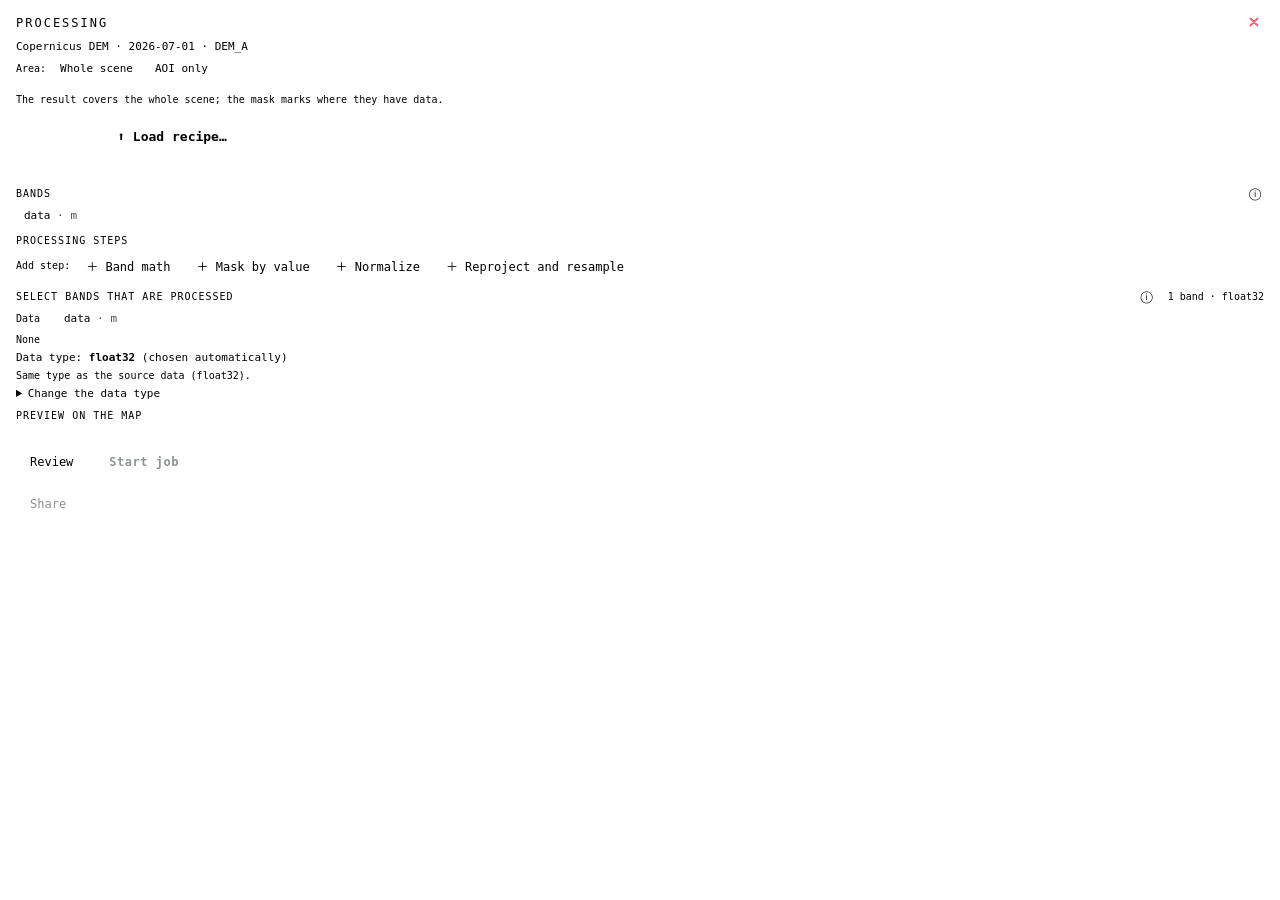
Scenario: a mask by value step › shows the unit of the band beside "Hide where"
Click the button "＋ Mask by value": (253, 266) [186, 252, 320, 279]
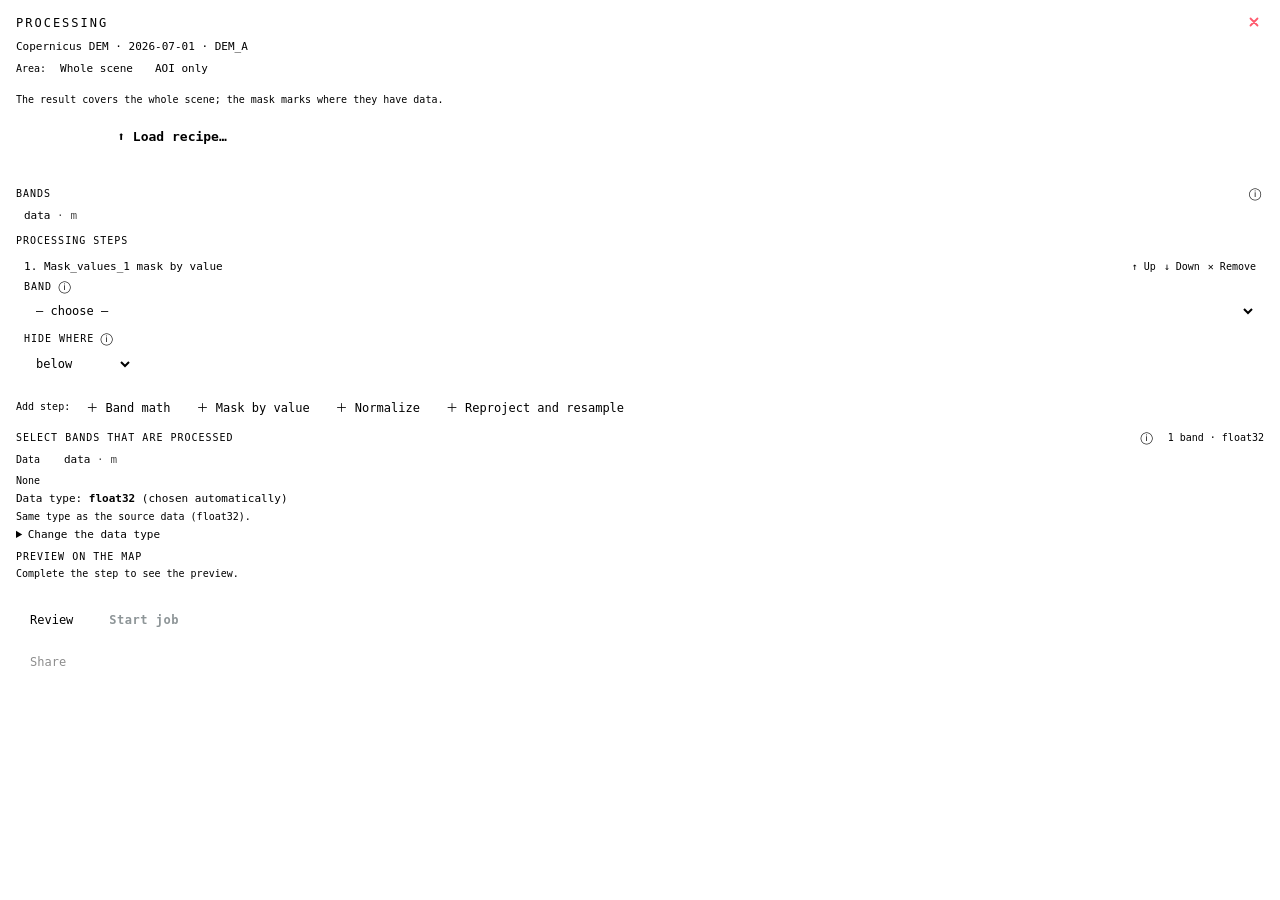
Expected: the text "in m" is not shown
Select "data" in the dropdown labelled "Band ⓘ": (640, 311) [24, 297, 1256, 325]
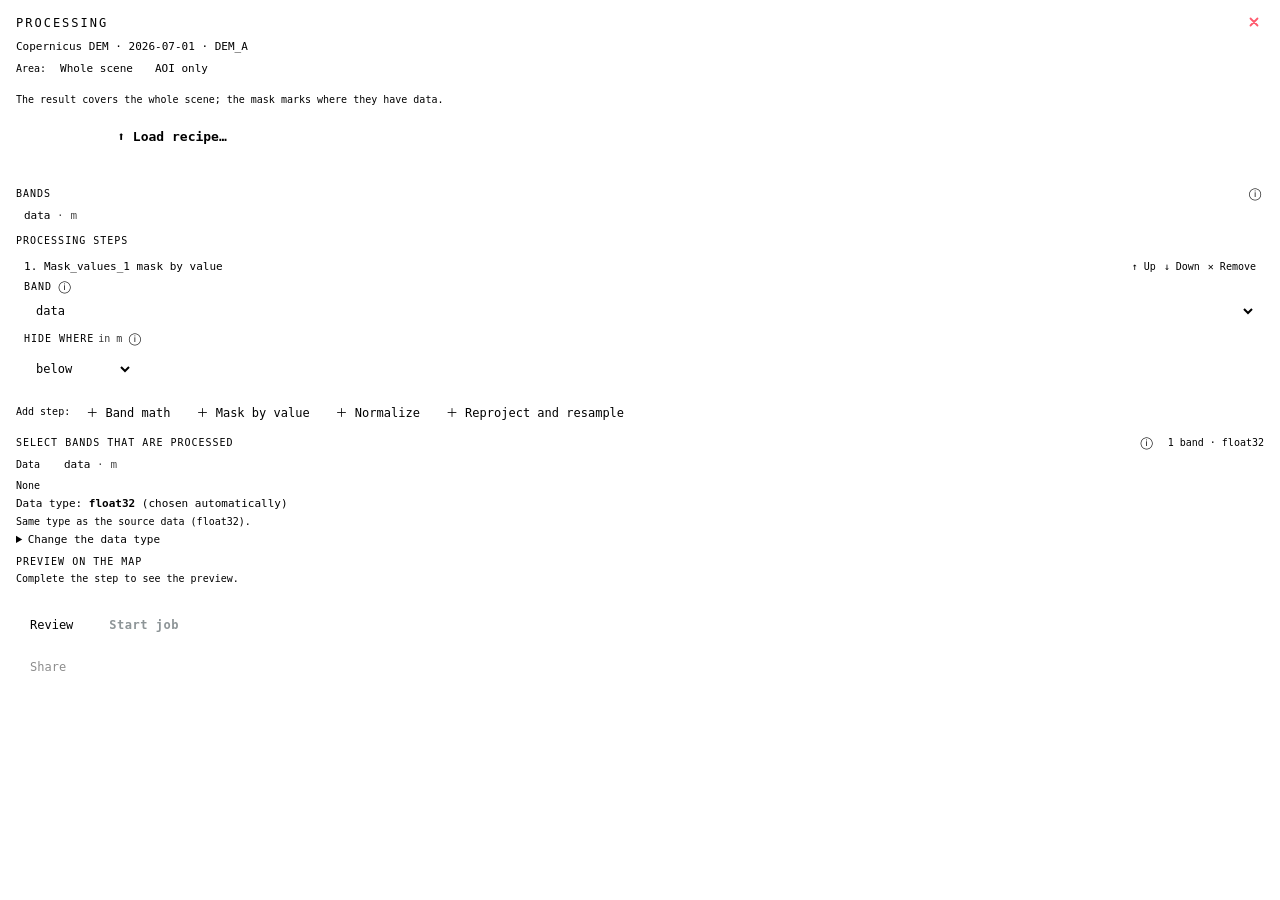
Result: the text "in m" is shown at [98, 333, 122, 350]
